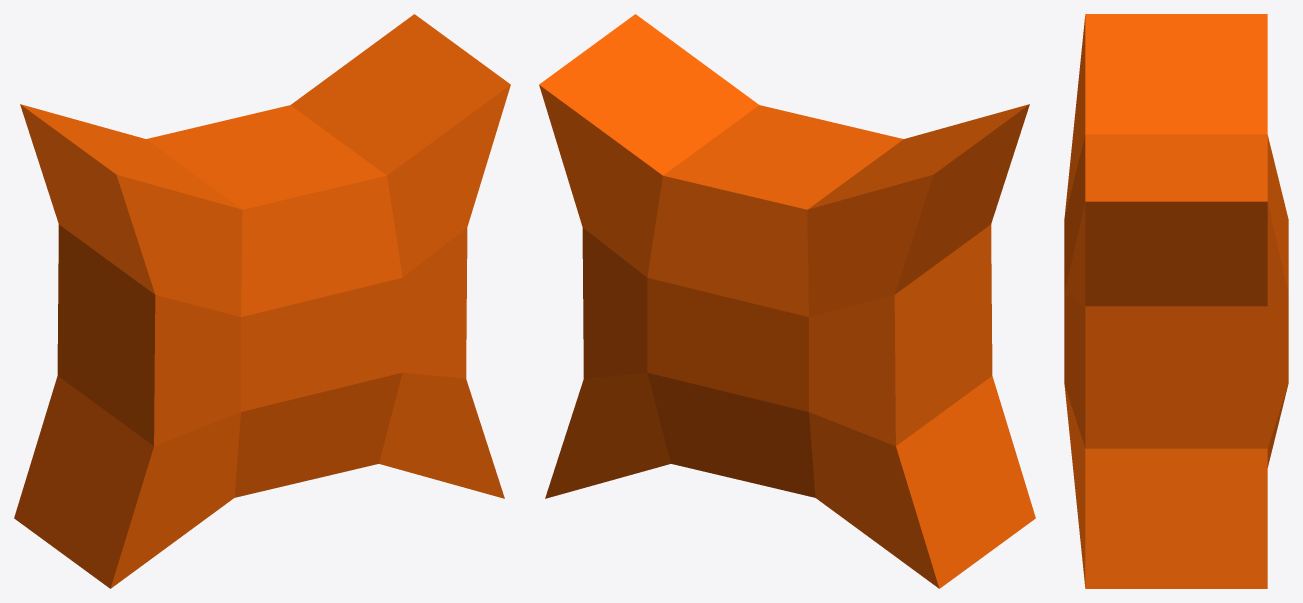
The model's file is Citrine.fbx.
3 renders of one model, left to right at view 1: azimuth 30°, elevation 25°; view 2: azimuth 150°, elevation 25°; view 3: azimuth 270°, elevation 25°, orthographic. The views are drawn at different scales.
Visible parts, largest first — view 1: Citrine; view 2: Citrine; view 3: Citrine.
Boxes of the visible parts, x1=… form: Citrine: x1=14, y1=14, x2=510, y2=588; Citrine: x1=539, y1=14, x2=1035, y2=588; Citrine: x1=1064, y1=14, x2=1288, y2=588.
Bounding box in the file's own units: 135 × 135 × 69.39.
